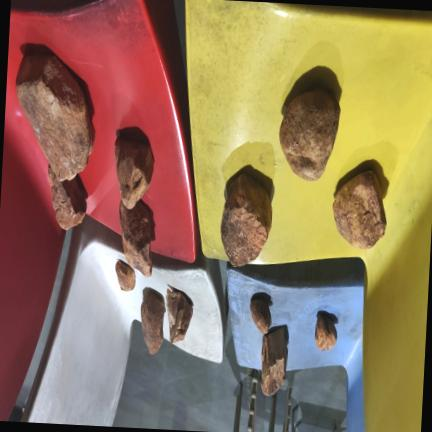Rocks: (15, 53, 93, 179), (278, 89, 339, 180), (220, 173, 271, 265), (332, 170, 385, 248), (114, 136, 152, 208), (119, 200, 151, 276), (47, 166, 85, 229), (260, 327, 286, 395), (140, 291, 163, 353), (166, 289, 191, 342), (315, 314, 336, 350), (249, 297, 270, 333), (115, 260, 134, 290)
